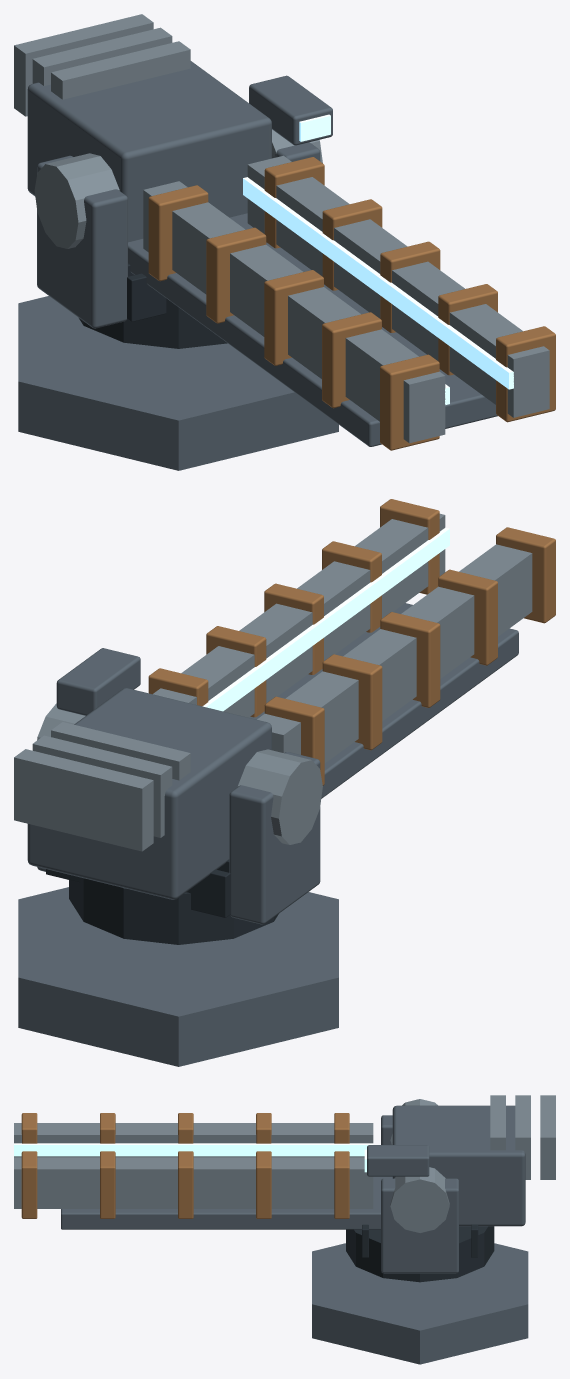
File: railgun_t2_d0.glb
3 views of the same model, one above another, from view 1: azimuth 30°, elevation 25°; view 2: azimuth 150°, elevation 25°; view 3: azimuth 270°, elevation 25° (orthographic). The views are drawn at different scales.
Visible parts, largest first — view 1: RECOIL_ARMOR_GEOMETRY, BASE_ARMOR_GEOMETRY, YAW_ARMOR_GEOMETRY, RECOIL_SIGNAL_GEOMETRY; view 2: RECOIL_ARMOR_GEOMETRY, BASE_ARMOR_GEOMETRY, YAW_ARMOR_GEOMETRY, RECOIL_SIGNAL_GEOMETRY; view 3: RECOIL_ARMOR_GEOMETRY, BASE_ARMOR_GEOMETRY, YAW_ARMOR_GEOMETRY, RECOIL_SIGNAL_GEOMETRY.
Boxes of the visible parts, x1,y1,x2,y2 form: RECOIL_ARMOR_GEOMETRY: (14,14,555,450); BASE_ARMOR_GEOMETRY: (18,296,338,470); YAW_ARMOR_GEOMETRY: (37,142,320,348); RECOIL_SIGNAL_GEOMETRY: (243,114,513,404); RECOIL_ARMOR_GEOMETRY: (14,499,555,917); BASE_ARMOR_GEOMETRY: (18,887,338,1066); YAW_ARMOR_GEOMETRY: (37,752,320,944); RECOIL_SIGNAL_GEOMETRY: (202,527,449,711); RECOIL_ARMOR_GEOMETRY: (14,1095,555,1257); BASE_ARMOR_GEOMETRY: (312,1243,528,1364); YAW_ARMOR_GEOMETRY: (346,1115,494,1282); RECOIL_SIGNAL_GEOMETRY: (14,1143,373,1172).
Size of the model in its own units: 1.6 by 1.38 by 3.47.
